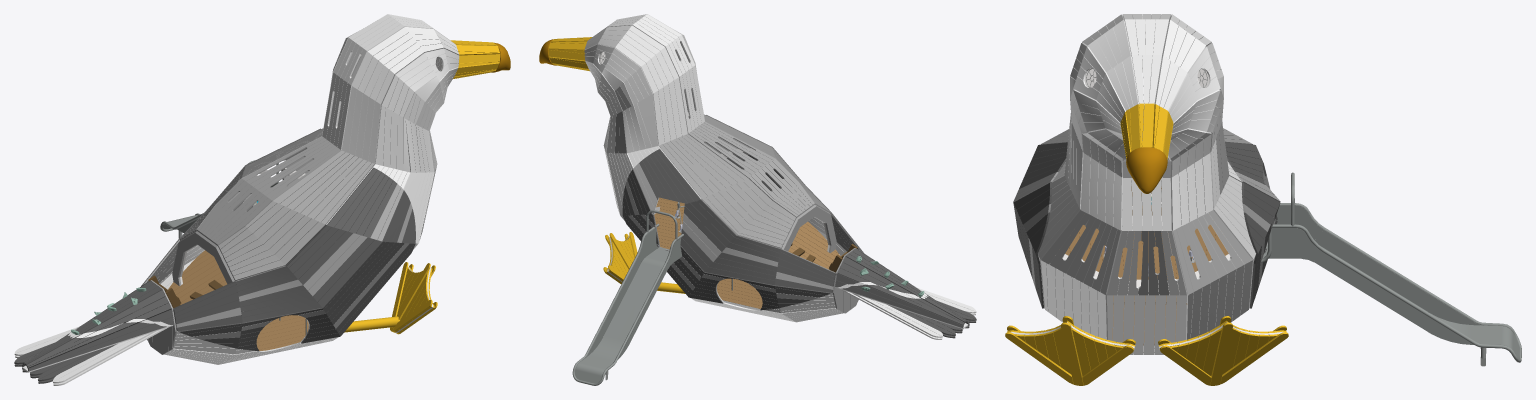
The model's file is rgss-201-c-larus.glb.
3 renders of one model, left to right at view 1: azimuth 30°, elevation 25°; view 2: azimuth 150°, elevation 25°; view 3: azimuth 270°, elevation 25°, orthographic. The views are drawn at different scales.
Visible parts, largest first — view 1: Solid1; view 2: Solid1; view 3: Solid1.
Boxes of the visible parts, x1,y1,x2,y2 form: Solid1: [14, 14, 510, 385]; Solid1: [539, 14, 976, 385]; Solid1: [1005, 14, 1521, 385].
Size of the model in its own units: 6.6 by 3.85 by 4.59.
Materials: 1 (1 with a texture image).
